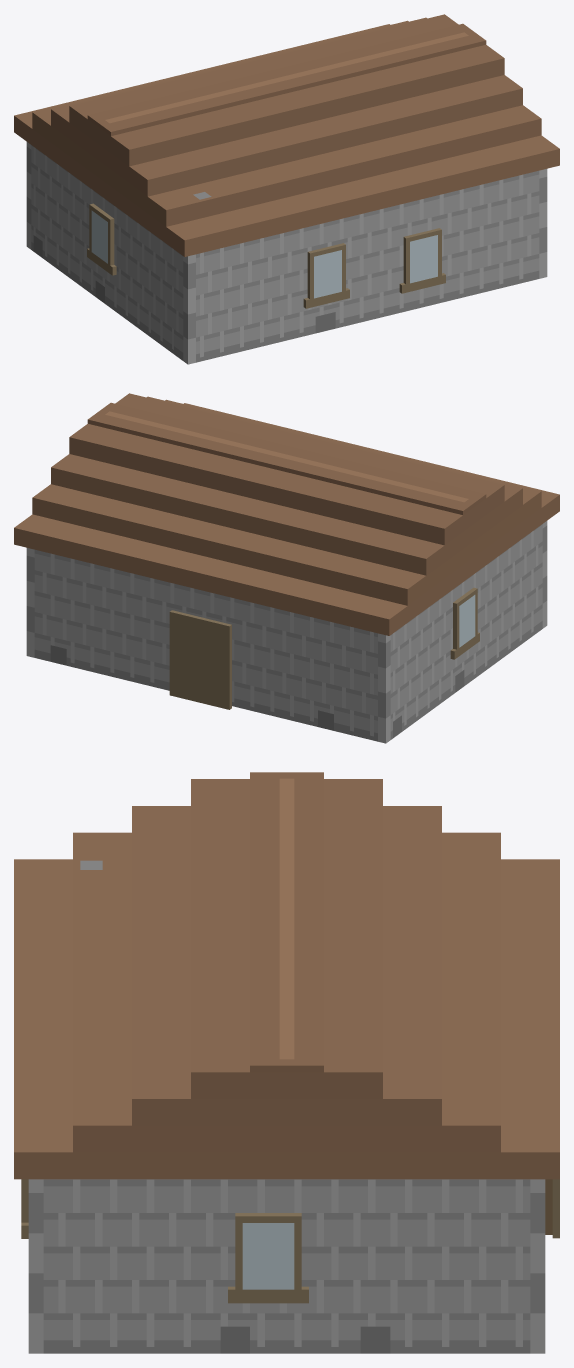
File: molino_agua_03.glb
3 renders of one model, top to bottom at view 1: azimuth 30°, elevation 25°; view 2: azimuth 150°, elevation 25°; view 3: azimuth 270°, elevation 25°, orthographic. The views are drawn at different scales.
Parts seen in each view (by area): view 1: molino_agua_03; view 2: molino_agua_03; view 3: molino_agua_03.
Part boxes in pixels (<box>): molino_agua_03: <box>14,14,559,364</box>; molino_agua_03: <box>14,393,559,743</box>; molino_agua_03: <box>14,772,559,1353</box>.
Bounding box in the file's own units: 9.4 × 4.4 × 7.4.
